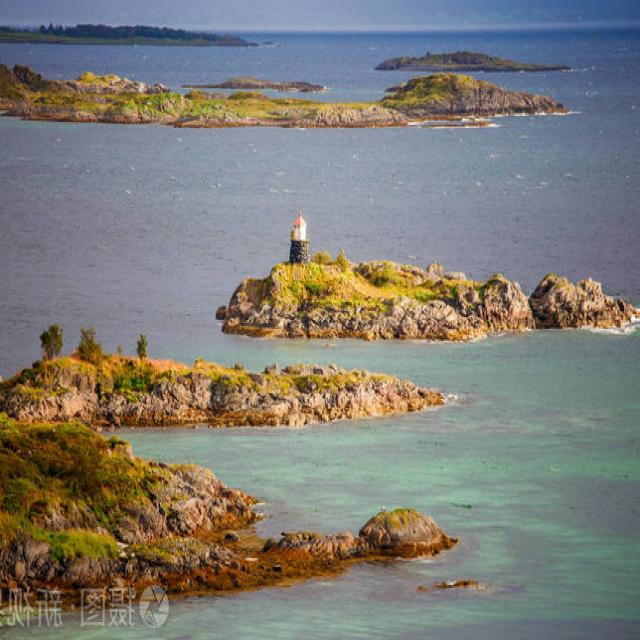reef: (16, 430, 478, 608), (86, 90, 561, 175), (360, 243, 629, 336), (369, 18, 563, 79)
